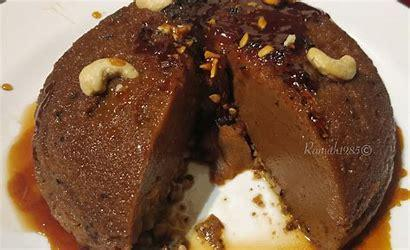Watalappam: (35, 3, 384, 238)
